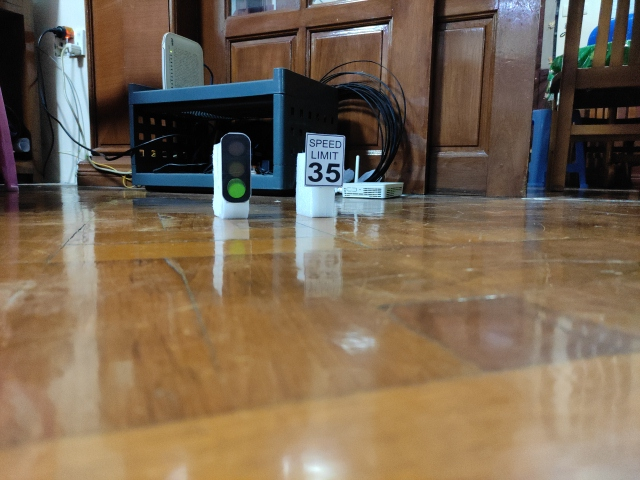Green Traffic Light: (220, 130, 252, 203)
Speed Limit 35: (304, 130, 346, 184)
